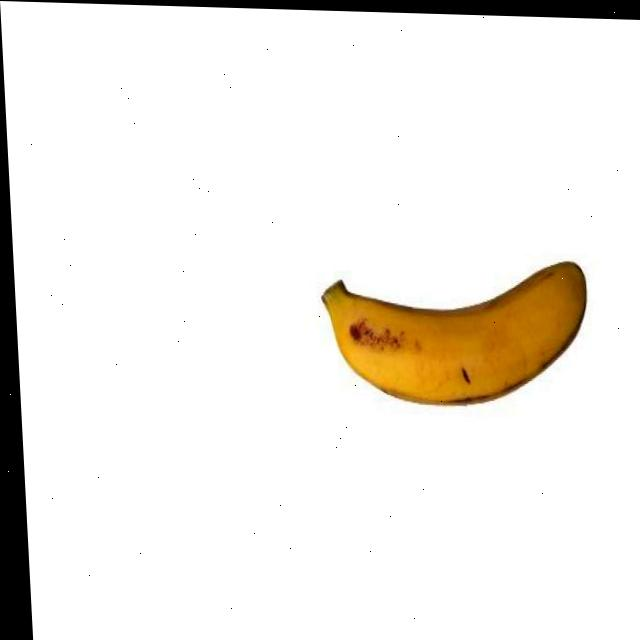banana: (317, 254, 596, 412)
